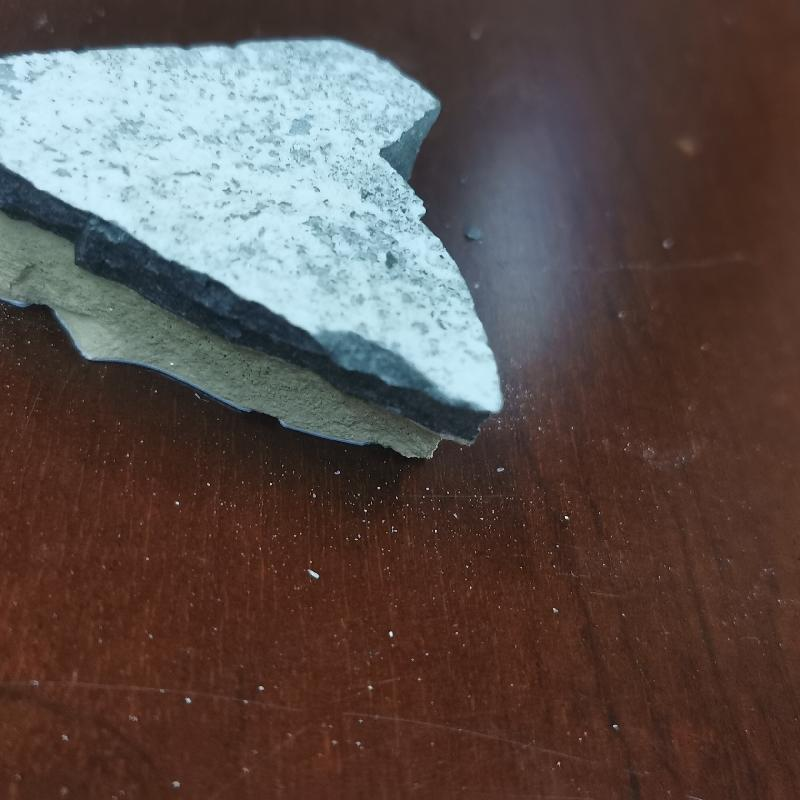tile: (0, 24, 505, 469)
